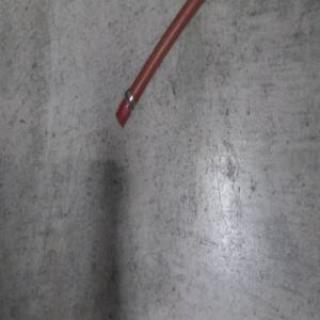Hosetrack_idkeyframe: (113, 0, 210, 129)
